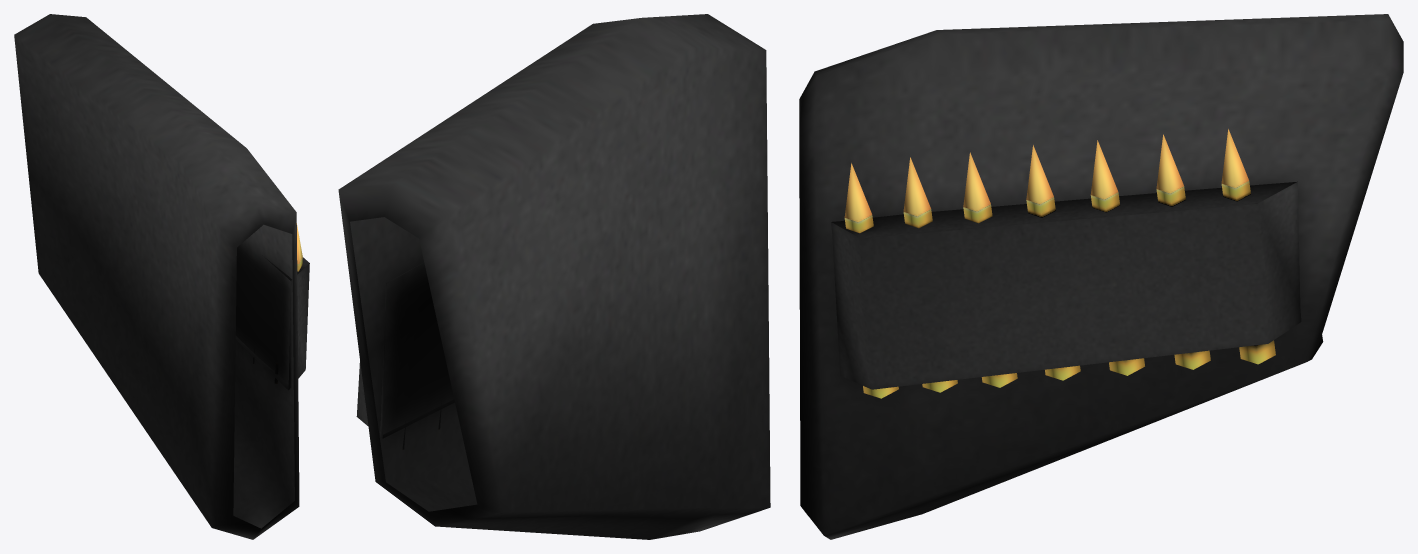
Rendered from Rifle_Ammo_Sling.fbx.
3 views of the same model, side by side, from view 1: azimuth 30°, elevation 25°; view 2: azimuth 150°, elevation 25°; view 3: azimuth 270°, elevation 25° (orthographic). The views are drawn at different scales.
Parts seen in each view (by area): view 1: Rifle_Ammo_Sling; view 2: Rifle_Ammo_Sling; view 3: Rifle_Ammo_Sling.
Part boxes in pixels (box(x1,y1,x2,y2)): Rifle_Ammo_Sling: box(14, 14, 309, 539); Rifle_Ammo_Sling: box(338, 14, 770, 539); Rifle_Ammo_Sling: box(799, 14, 1403, 539).
Bounding box in the file's own units: 0.0266 × 0.091 × 0.0861.
